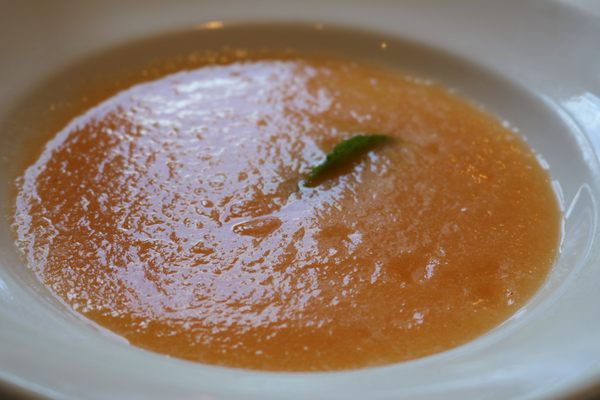salad: (5, 24, 588, 377)
